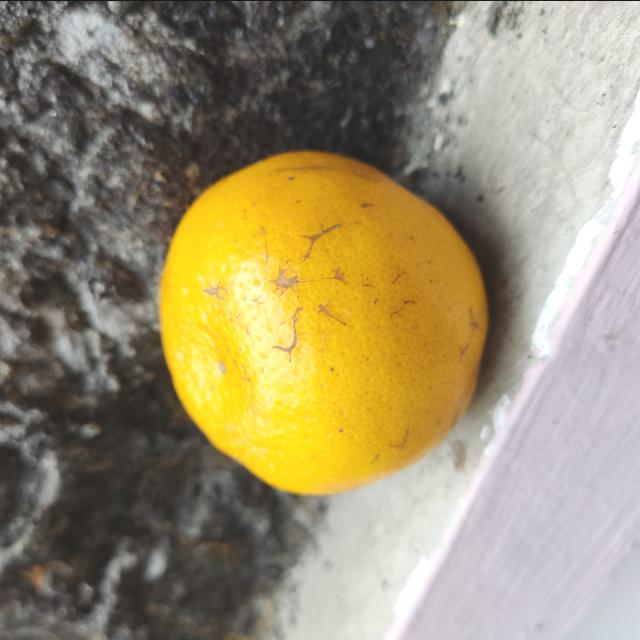orange: (155, 149, 495, 499)
